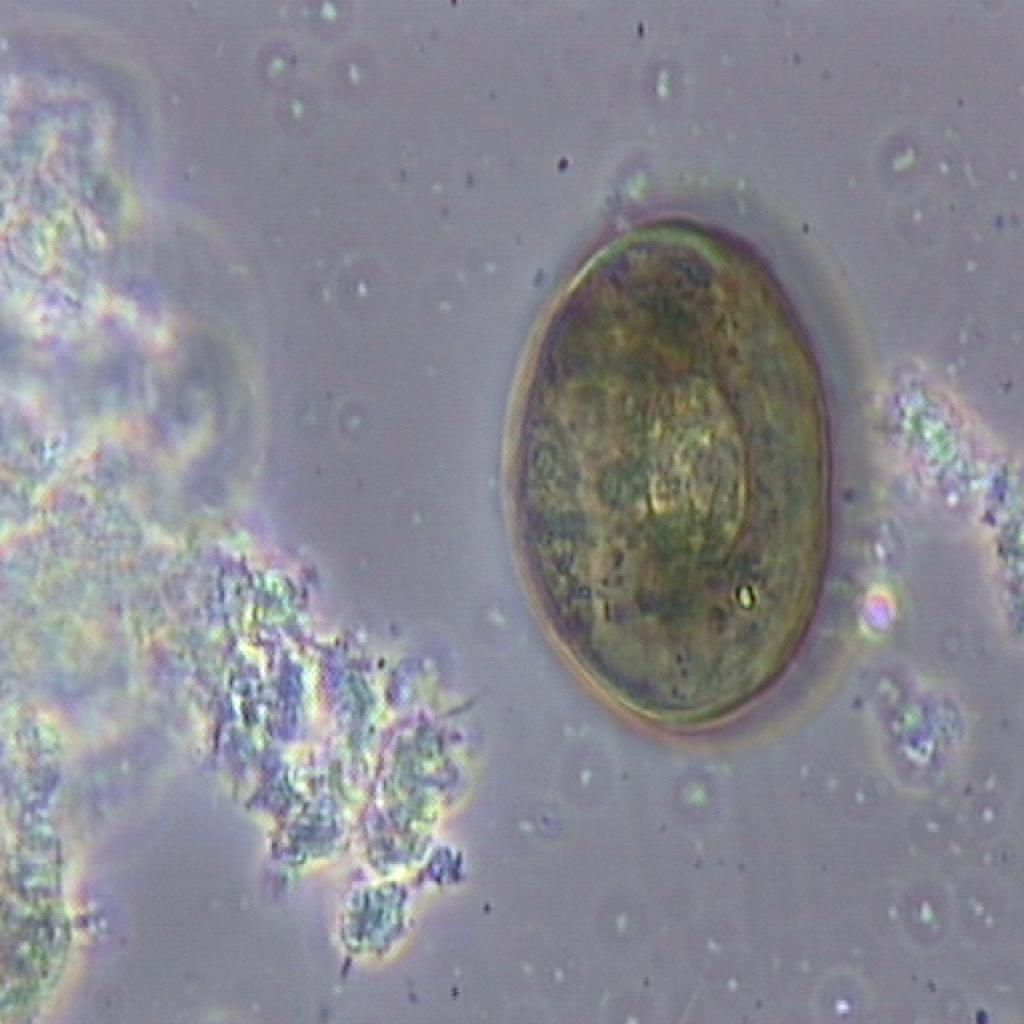Arcella: (497, 200, 855, 742)
